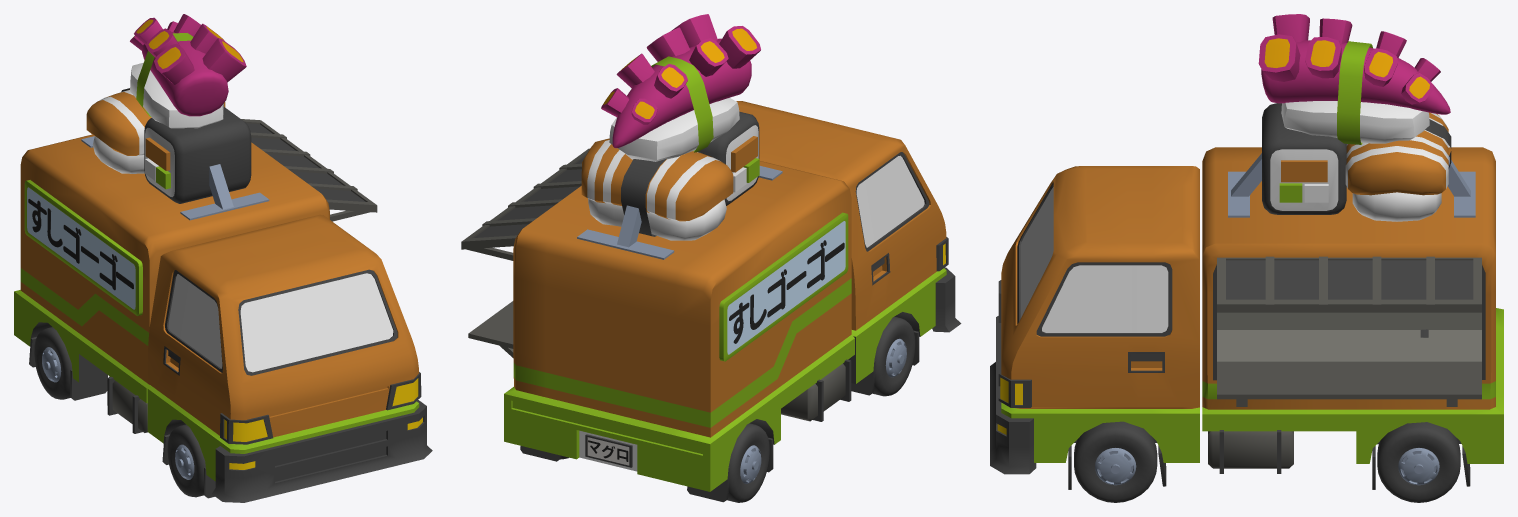
File: Truck.fbx
The picture shows the model from 3 angles, left to right: view 1: azimuth 30°, elevation 25°; view 2: azimuth 150°, elevation 25°; view 3: azimuth 270°, elevation 25°; orthographic projection. The views are drawn at different scales.
Visible parts, largest first — view 1: Truck; view 2: Truck; view 3: Truck.
Boxes of the visible parts, x1,y1,x2,y2 form: Truck: (14, 14, 432, 502); Truck: (461, 14, 961, 502); Truck: (990, 14, 1503, 502).
Bounding box in the file's own units: 510 × 731 × 798.
